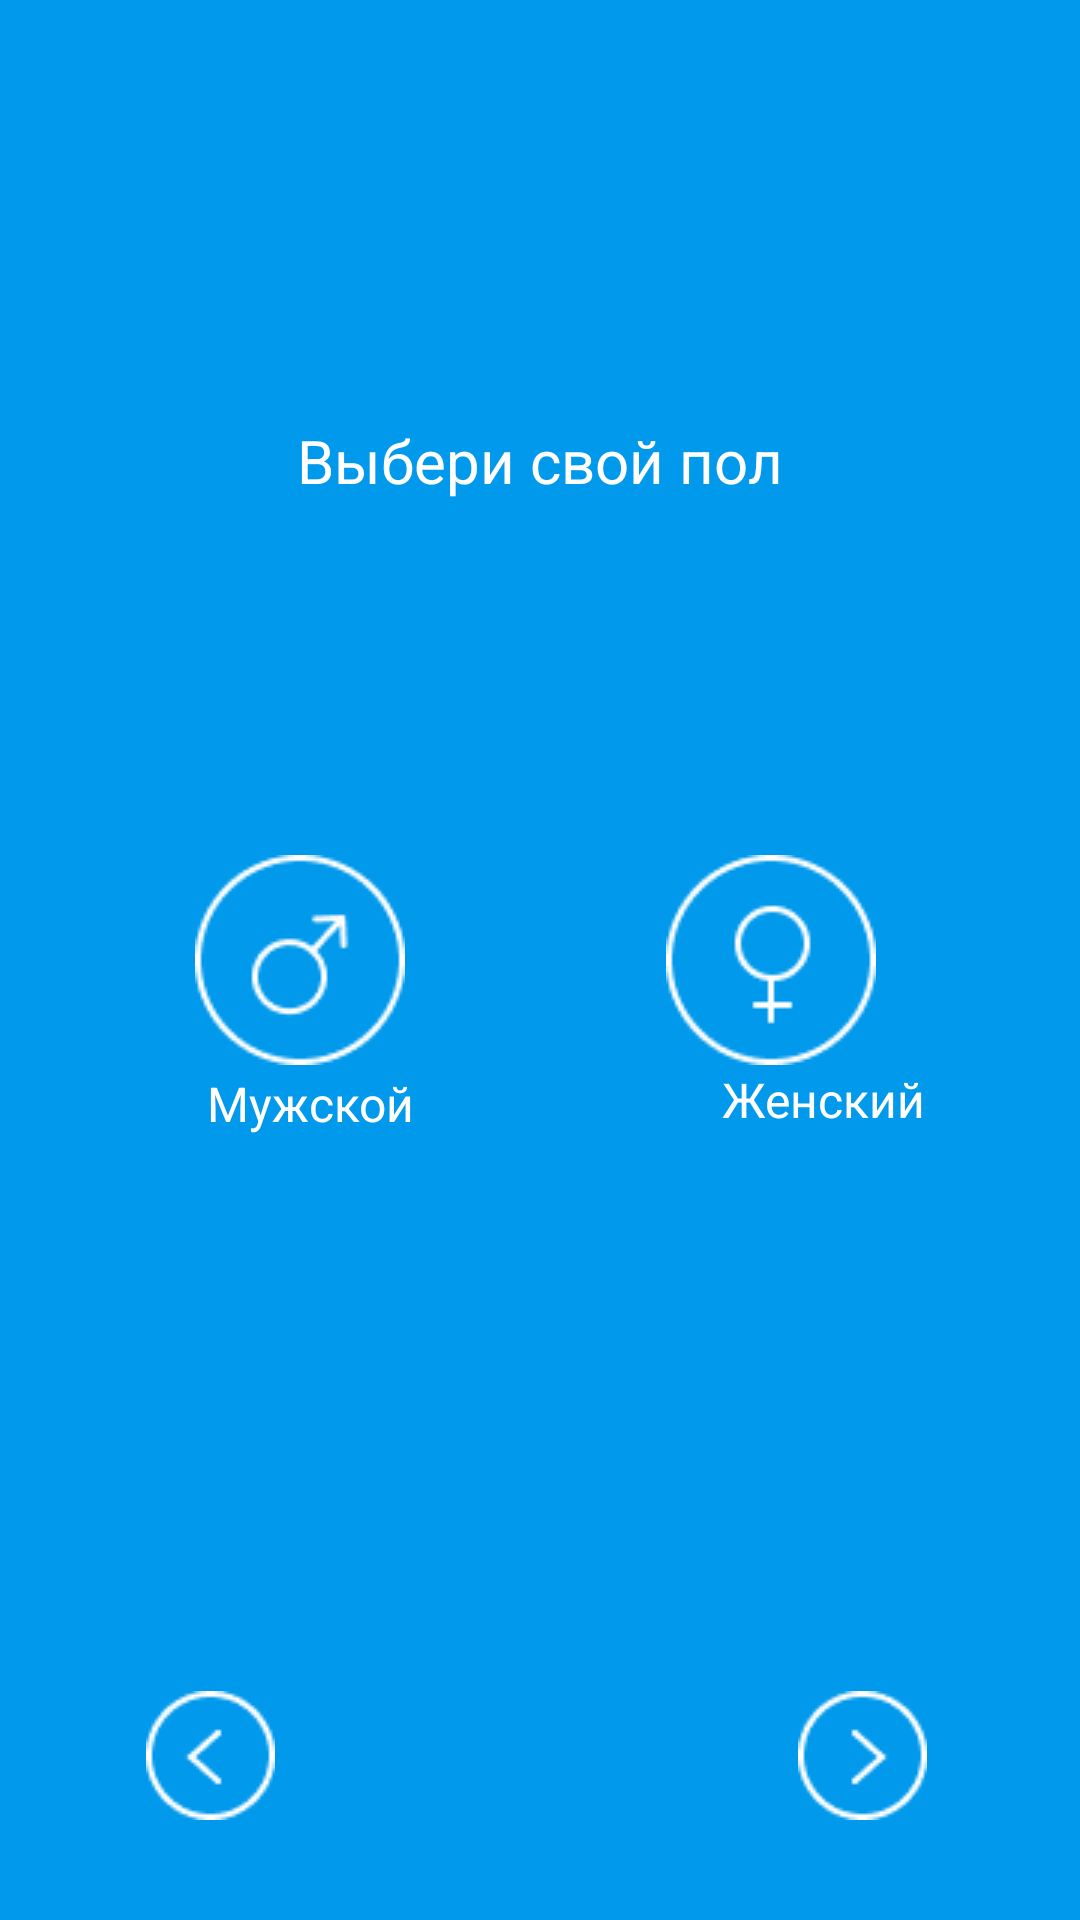

Icons on this 1080w x 1920h Android screen, each with its box as (x1, y1, x2, y2):
back: (146, 1691, 275, 1820)
forward: (798, 1691, 927, 1820)
